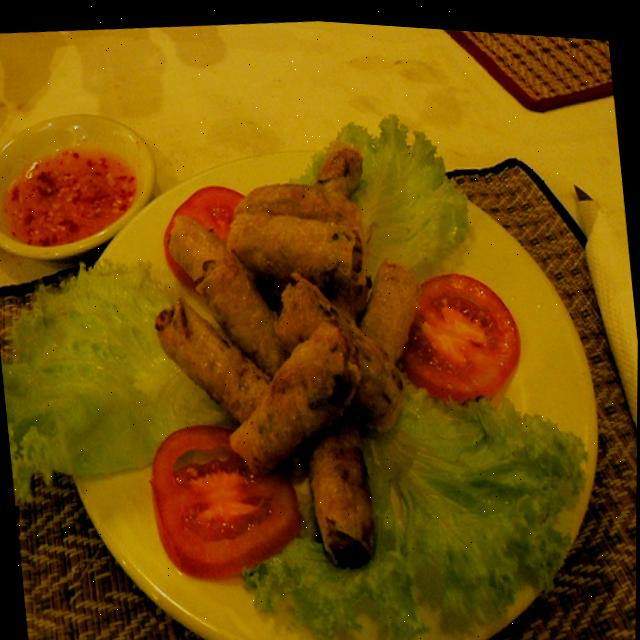炸货点心: (10, 49, 615, 640)
